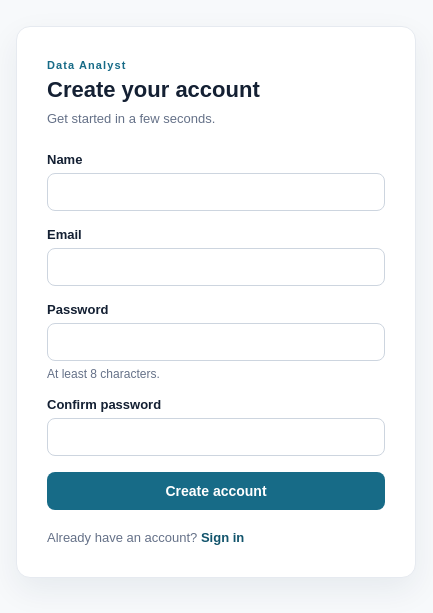
Test: RegisterForm › attaches a duplicate-email error to the email field
Type "Ada Lovelace" into the field labelled "Name" at (216, 192), box [47,173,385,211]
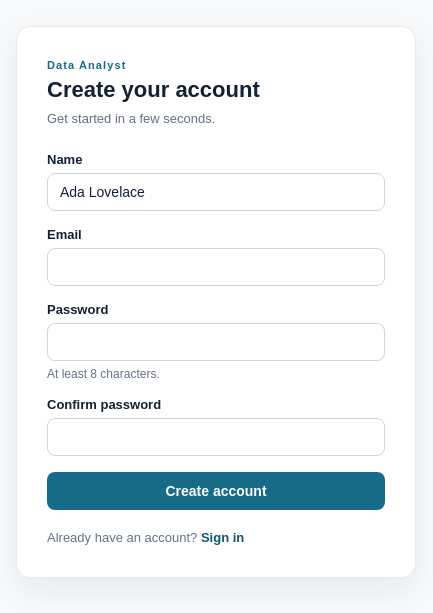
Type "ada@example.com" into the field labelled "Email" at (216, 267), box [47,248,385,286]
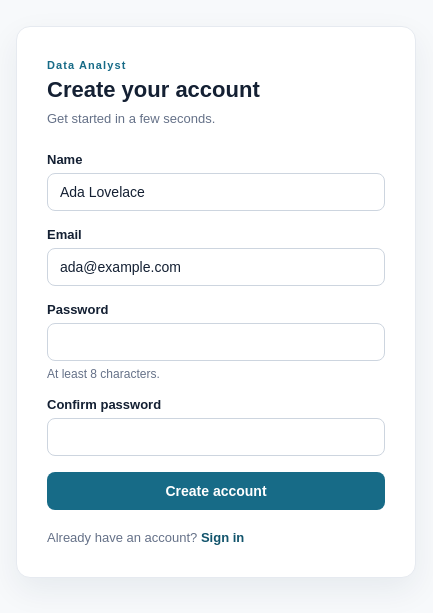
Type "correct-horse-1" into the password field labelled "Password" at (216, 342), box [47,323,385,361]
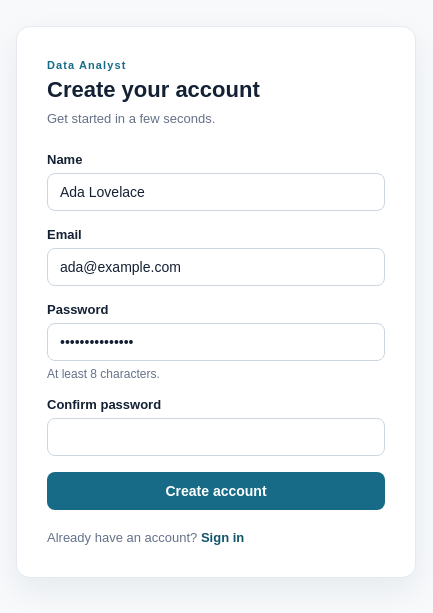
Type "correct-horse-1" into the password field labelled "Confirm password" at (216, 437), box [47,418,385,456]
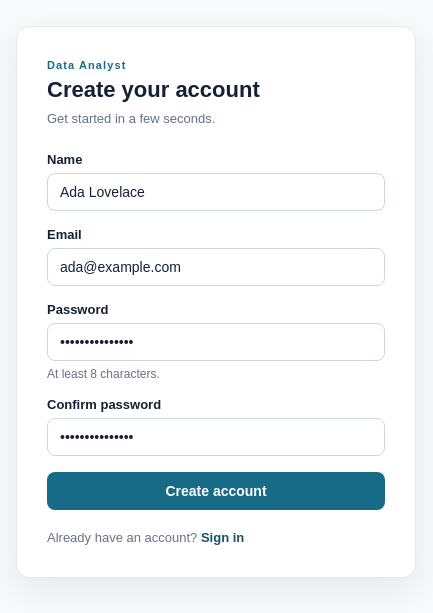
Click the button "Create account" at (216, 491), box [47,472,385,510]
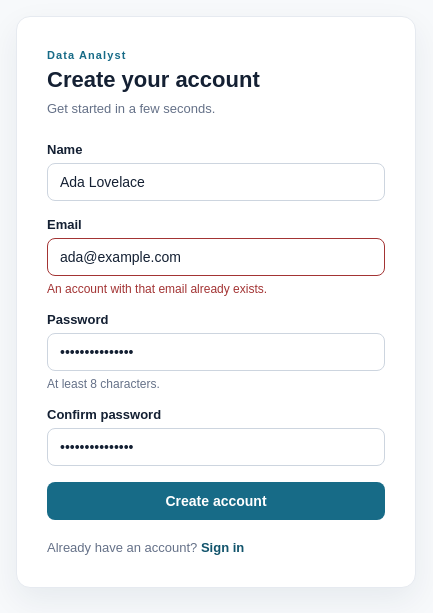
expect the text "An account with that email already exists." is shown: met, box [47,282,267,296]
